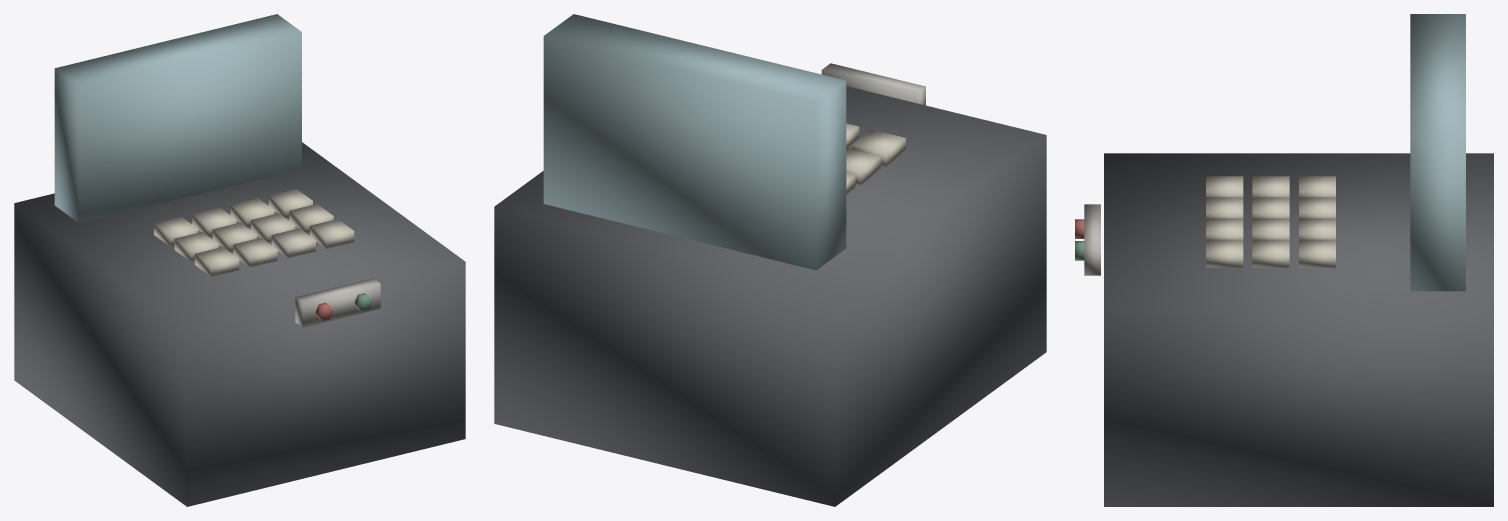
Rendered from cash_register__compact.glb.
The picture shows the model from 3 angles, left to right: view 1: azimuth 30°, elevation 25°; view 2: azimuth 150°, elevation 25°; view 3: azimuth 270°, elevation 25°; orthographic projection. The views are drawn at different scales.
Parts seen in each view (by area): view 1: world; view 2: world; view 3: world.
Part boxes in pixels (x1,y1,x2,y2): world: [14, 14, 465, 506]; world: [494, 14, 1046, 506]; world: [1075, 14, 1493, 506].
Size of the model in its own units: 0.336 by 0.3627 by 0.3879.
